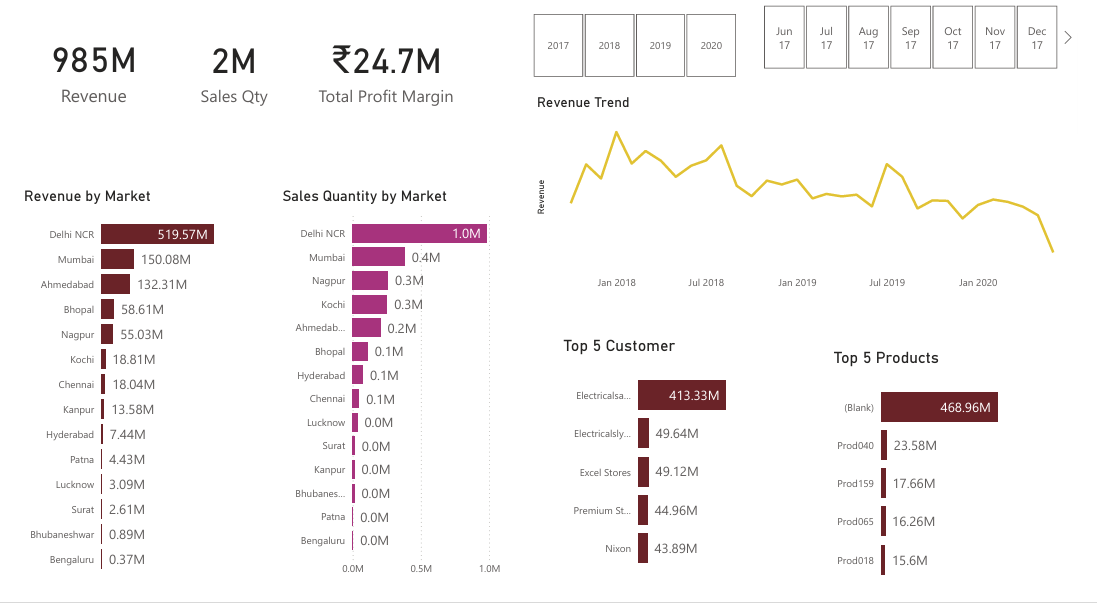

Layout of this report page (visuals, bound fields, positions):
{"tool":"powerbi","page":{"name":"Key Insight","canvas":[1280,720],"ordinal":0},"visuals":[{"type":"card","fields":{"Values":["BaseMeasures.Revenue"]},"box":[0,0,178.8,165.2],"z":0},{"type":"card","fields":{"Values":["BaseMeasures.Sales Qty"]},"box":[166.7,0,184.8,165.2],"z":1000},{"type":"barChart","title":"Sales Quantity by Market","fields":{"Category":["sales markets.markets_name"],"Y":["BaseMeasures.Sales Qty"]},"box":[312.9,225.7,308.6,480],"z":2000},{"type":"slicer","fields":{"Values":["sales date.cy_date"]},"box":[875,0,405,90],"z":3000},{"type":"lineChart","title":"Revenue Trend","fields":{"Y":["BaseMeasures.Revenue"],"Category":["sales date.cy_date.Variation.Date Hierarchy.Year","sales date.cy_date.Variation.Date Hierarchy.Quarter","sales date.cy_date.Variation.Date Hierarchy.Month","sales date.cy_date.Variation.Date Hierarchy.Day"]},"box":[621.4,114.3,658.6,245.7],"z":4000},{"type":"card","fields":{"Values":["BaseMeasures.Total Profit Margin"]},"box":[351.2,0,184.4,165.4],"z":5000},{"type":"barChart","title":"Revenue by Market","fields":{"Category":["sales markets.markets_name"],"Y":["BaseMeasures.Revenue"]},"box":[0,225.7,297.1,480],"z":6000},{"type":"barChart","title":"Top 5 Customer","fields":{"Category":["sales customers.custmer_name"],"Y":["BaseMeasures.Revenue"]},"box":[652.9,407.1,270,298.6],"z":7000},{"type":"slicer","fields":{"Values":["sales date.year"]},"box":[595.7,10.1,295.7,89.9],"z":8000},{"type":"barChart","title":"Top 5 Products","fields":{"Y":["BaseMeasures.Revenue"],"Category":["sales products.product_code"]},"box":[980,421.4,270,298.6],"z":9000}]}

Visuals, with their boxes in screenshot pixels (x1, y1, x2, y2), scaled from the page's 1280x720 canvas onto the 1097x603 screenshot:
card - BaseMeasures.Revenue: x1=0 y1=0 x2=153 y2=138
card - BaseMeasures.Sales Qty: x1=143 y1=0 x2=301 y2=138
"Sales Quantity by Market" barChart: x1=268 y1=189 x2=533 y2=591
slicer - sales date.cy_date: x1=750 y1=0 x2=1096 y2=75
"Revenue Trend" lineChart: x1=533 y1=96 x2=1096 y2=302
card - BaseMeasures.Total Profit Margin: x1=301 y1=0 x2=459 y2=139
"Revenue by Market" barChart: x1=0 y1=189 x2=255 y2=591
"Top 5 Customer" barChart: x1=560 y1=341 x2=791 y2=591
slicer - sales date.year: x1=511 y1=8 x2=764 y2=84
"Top 5 Products" barChart: x1=840 y1=353 x2=1071 y2=602
